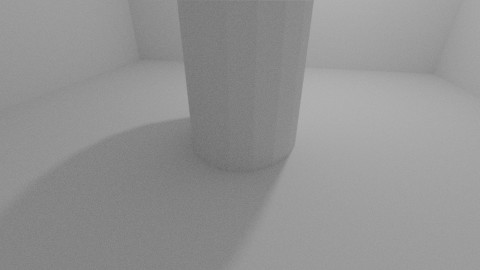cheminee: (177, 1, 314, 172)
